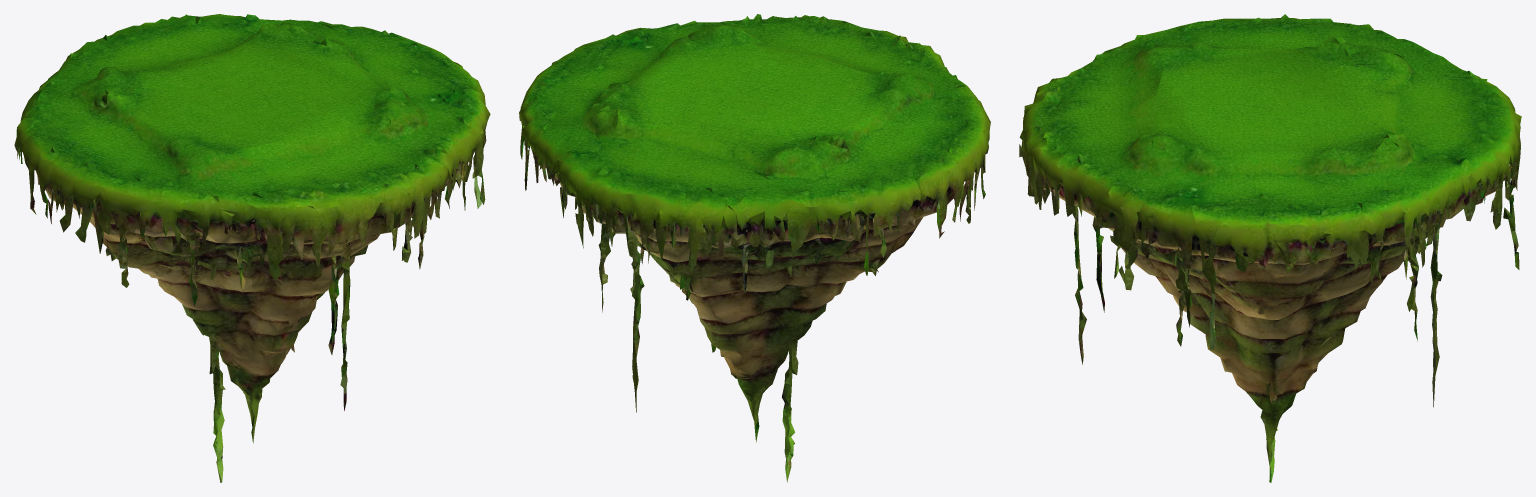
Rendered from isle-cone-hd.glb.
3 renders of one model, left to right at view 1: azimuth 30°, elevation 25°; view 2: azimuth 150°, elevation 25°; view 3: azimuth 270°, elevation 25°, orthographic. The views are drawn at different scales.
Parts seen in each view (by area): view 1: isle-cone-hd.raw; view 2: isle-cone-hd.raw; view 3: isle-cone-hd.raw.
Boxes of the visible parts, x1,y1,x2,y2 form: isle-cone-hd.raw: (14, 14, 490, 482); isle-cone-hd.raw: (519, 14, 990, 482); isle-cone-hd.raw: (1019, 14, 1521, 482).
Size of the model in its own units: 11.18 by 9.98 by 11.15.
1 material, 1 textured.
